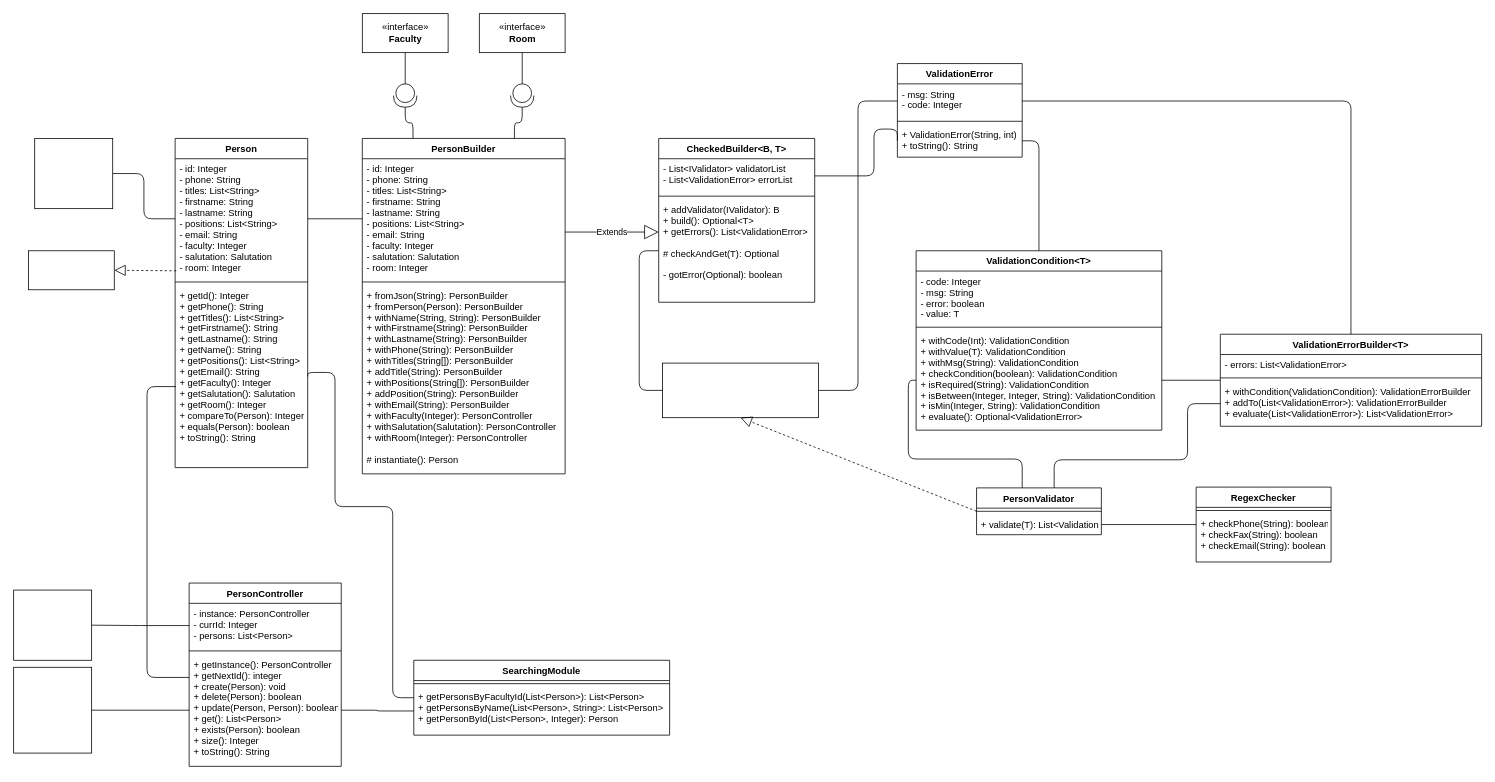
Image size: 1495x782. Some labels were removed from this diagram. Here are the shapes that lost their labels. From the top down, the centre of each, then its label:
point 73,173: Salutation Herr Frau Enthalten
point 71,270: «interface» Comparable
point 740,390: <<Interface>> IValidator + validate(T): List<ValidationError>
point 52,624: SearchType FacultyId Name Id
point 52,710: SortType Lastname Firstname Name Position Faculty
